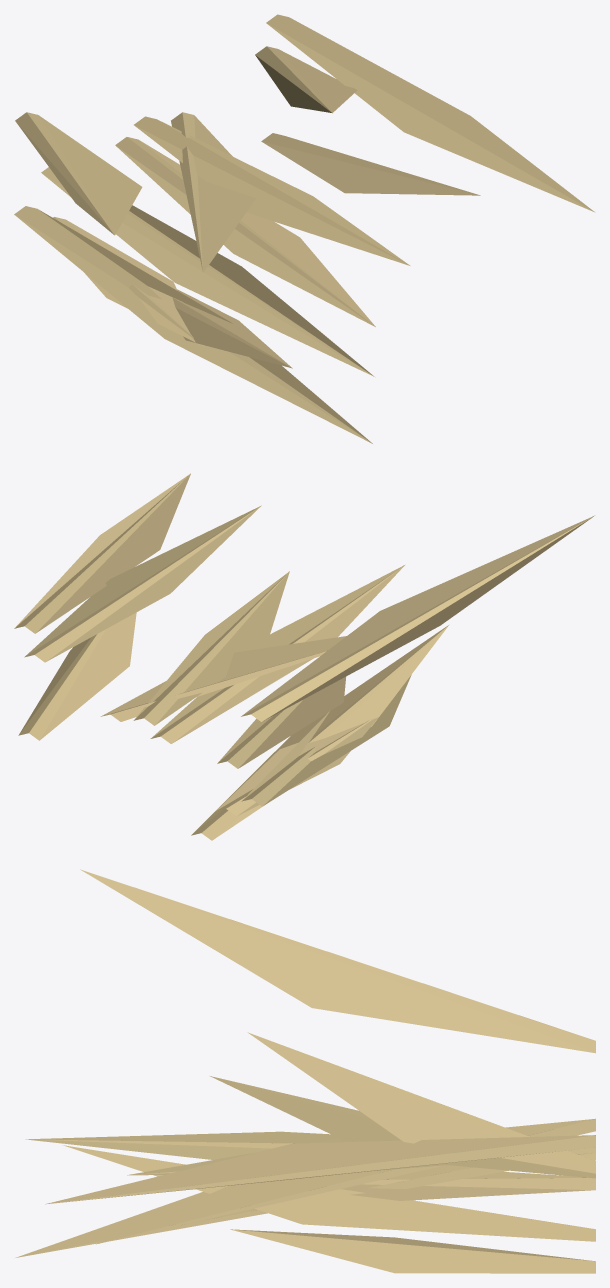
Rendered from dry_grass_large.glb.
3 views of the same model, one above another, from view 1: azimuth 30°, elevation 25°; view 2: azimuth 150°, elevation 25°; view 3: azimuth 270°, elevation 25° (orthographic). The views are drawn at different scales.
Parts seen in each view (by area): view 1: dry_grass_large_006, dry_grass_large_010, dry_grass_large_001, dry_grass_large_005, dry_grass_large_000, dry_grass_large_002, dry_grass_large_009, dry_grass_large_003, dry_grass_large_008, dry_grass_large_007, dry_grass_large_004; view 2: dry_grass_large_002, dry_grass_large_008, dry_grass_large_006, dry_grass_large_005, dry_grass_large_000, dry_grass_large_009, dry_grass_large_007, dry_grass_large_003, dry_grass_large_001, dry_grass_large_010, dry_grass_large_004; view 3: dry_grass_large_002, dry_grass_large_006, dry_grass_large_007, dry_grass_large_008, dry_grass_large_009, dry_grass_large_001, dry_grass_large_000, dry_grass_large_003, dry_grass_large_004, dry_grass_large_010, dry_grass_large_005.
Part boxes in pixels (box(x1,y1,x2,y2)): dry_grass_large_006: box(266, 14, 595, 212); dry_grass_large_010: box(14, 206, 372, 443); dry_grass_large_001: box(41, 167, 374, 376); dry_grass_large_005: box(134, 116, 410, 265); dry_grass_large_000: box(115, 137, 375, 326); dry_grass_large_002: box(15, 112, 142, 235); dry_grass_large_009: box(261, 133, 480, 195); dry_grass_large_003: box(171, 112, 256, 272); dry_grass_large_008: box(255, 46, 357, 113); dry_grass_large_007: box(172, 289, 292, 368); dry_grass_large_004: box(53, 217, 204, 346); dry_grass_large_002: box(241, 515, 595, 721); dry_grass_large_008: box(24, 505, 261, 662); dry_grass_large_006: box(14, 473, 190, 633); dry_grass_large_005: box(133, 571, 289, 725); dry_grass_large_000: box(150, 565, 404, 743); dry_grass_large_009: box(18, 612, 136, 740); dry_grass_large_007: box(191, 625, 448, 840); dry_grass_large_003: box(100, 636, 346, 721); dry_grass_large_001: box(217, 677, 345, 768); dry_grass_large_010: box(241, 675, 411, 806); dry_grass_large_004: box(216, 717, 378, 816); dry_grass_large_002: box(80, 869, 595, 1053); dry_grass_large_006: box(45, 1135, 595, 1204); dry_grass_large_007: box(63, 1145, 595, 1241); dry_grass_large_008: box(247, 1032, 595, 1173); dry_grass_large_009: box(230, 1229, 595, 1273); dry_grass_large_001: box(96, 1118, 595, 1244); dry_grass_large_000: box(25, 1131, 595, 1160); dry_grass_large_003: box(210, 1076, 595, 1178); dry_grass_large_004: box(342, 1171, 595, 1200); dry_grass_large_010: box(15, 1165, 508, 1257); dry_grass_large_005: box(127, 1138, 595, 1175).
Bounding box in the file's own units: 1.04 × 0.5201 × 1.03.
